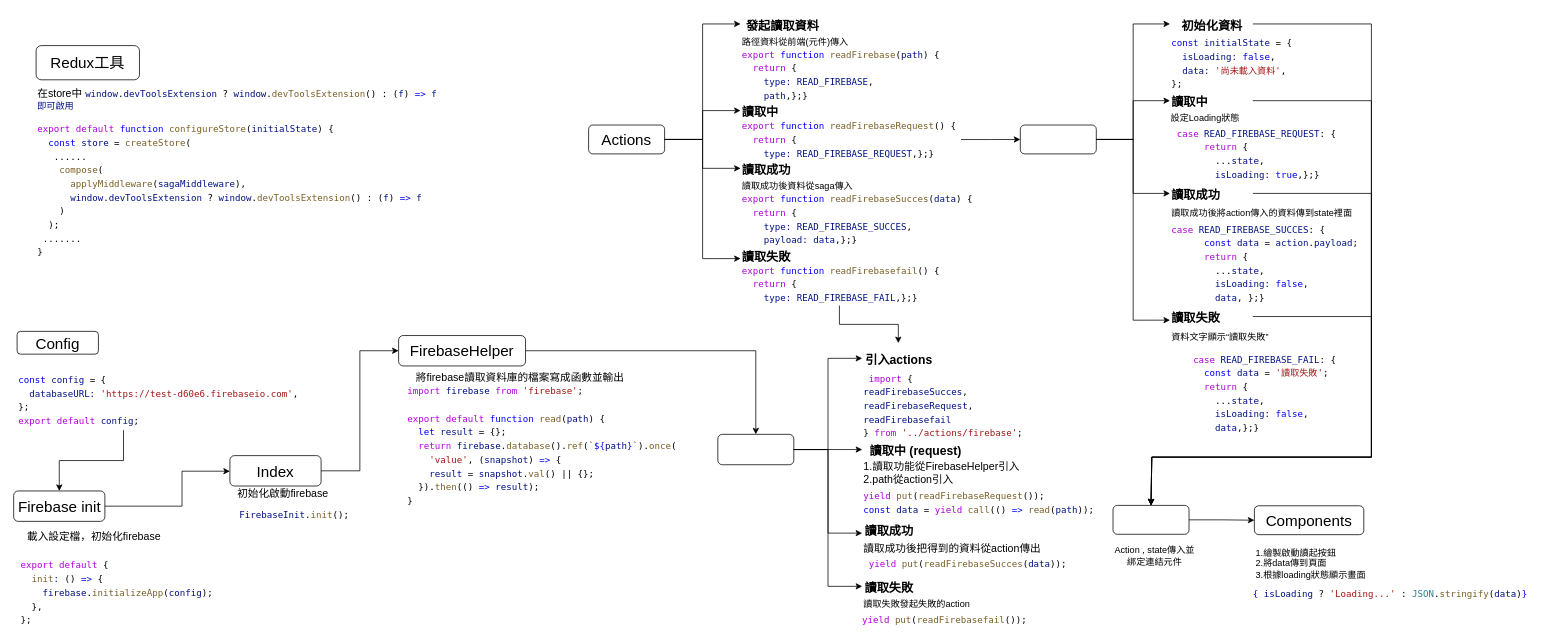
Image size: 1547x641. Some labels were removed from this diagram. Each missing label, with the centre of its shape:
"Containers" goes at (1150,519).
"Reducer" goes at (1058,139).
"Saga" goes at (755,449).
